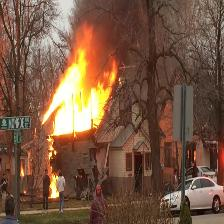fire: (49, 57, 114, 134)
